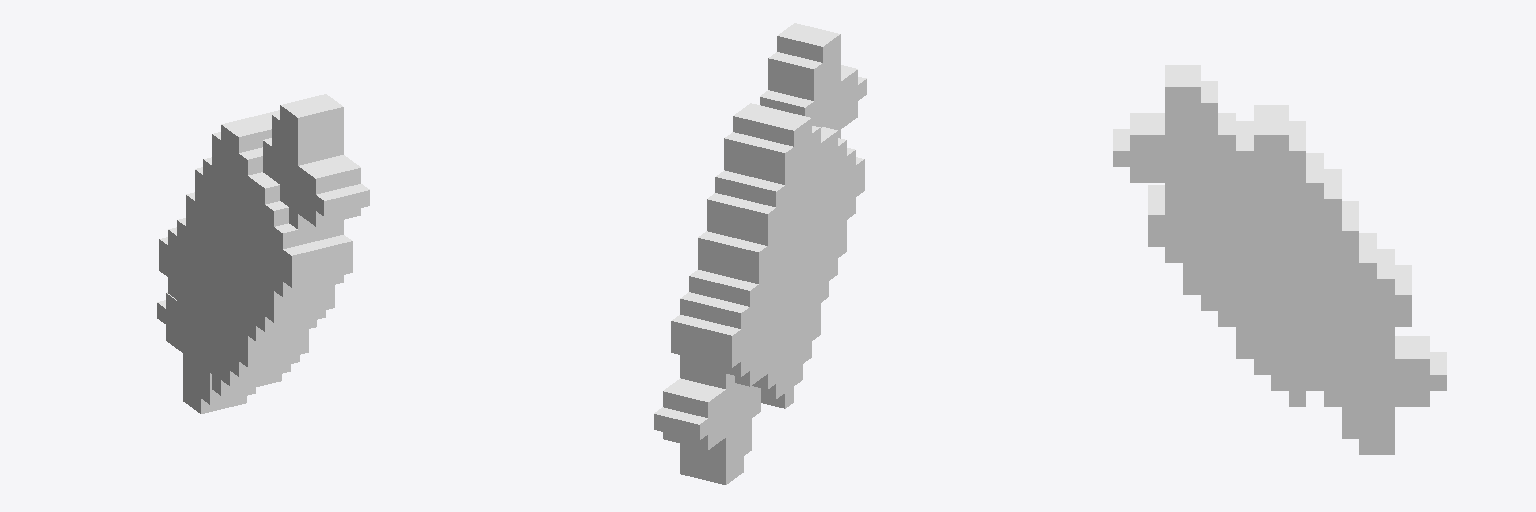
The model's file is Eruption-35.obj.
3 renders of one model, left to right at view 1: azimuth 30°, elevation 25°; view 2: azimuth 150°, elevation 25°; view 3: azimuth 270°, elevation 25°, orthographic.
Parts seen in each view (by area): view 1: object 1; view 2: object 1; view 3: object 1.
Boxes of the visible parts, x1,y1,x2,y2 form: object 1: [157, 94, 369, 413]; object 1: [654, 23, 866, 484]; object 1: [1113, 65, 1446, 454].
Bounding box in the file's own units: 0.4 × 2.3 × 1.9.